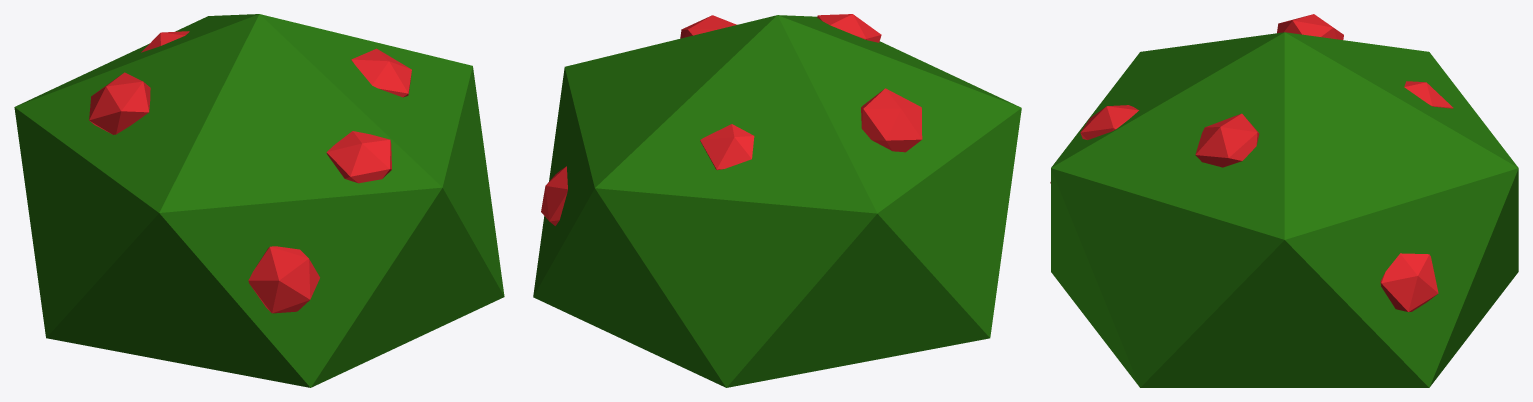
File: Bush.fbx
3 renders of one model, left to right at view 1: azimuth 30°, elevation 25°; view 2: azimuth 150°, elevation 25°; view 3: azimuth 270°, elevation 25°, orthographic.
Visible parts, largest first — view 1: Bush, Berry.001, Berry.002, Berry.004, Berry.005; view 2: Bush, Berry.002, Berry.003, Berry, Berry.004, Berry.005; view 3: Bush, Berry, Berry.005, Berry.004, Berry.002, Berry.003.
Part boxes in pixels (x1,y1,x2,y2): Bush: (14,14,504,387); Berry.001: (248,246,319,313); Berry.002: (89,72,150,134); Berry.004: (326,131,391,183); Berry.005: (351,48,411,97); Bush: (533,15,1021,387); Berry.002: (861,88,922,152); Berry.003: (700,124,754,170); Berry: (541,166,567,225); Berry.004: (817,14,881,42); Berry.005: (680,15,736,38); Bush: (1051,32,1518,387); Berry: (1380,253,1438,311); Berry.005: (1195,113,1259,167); Berry.004: (1080,105,1138,139); Berry.002: (1277,14,1343,39); Berry.003: (1404,81,1453,108).
Bounding box in the file's own units: 179 × 109 × 170.
